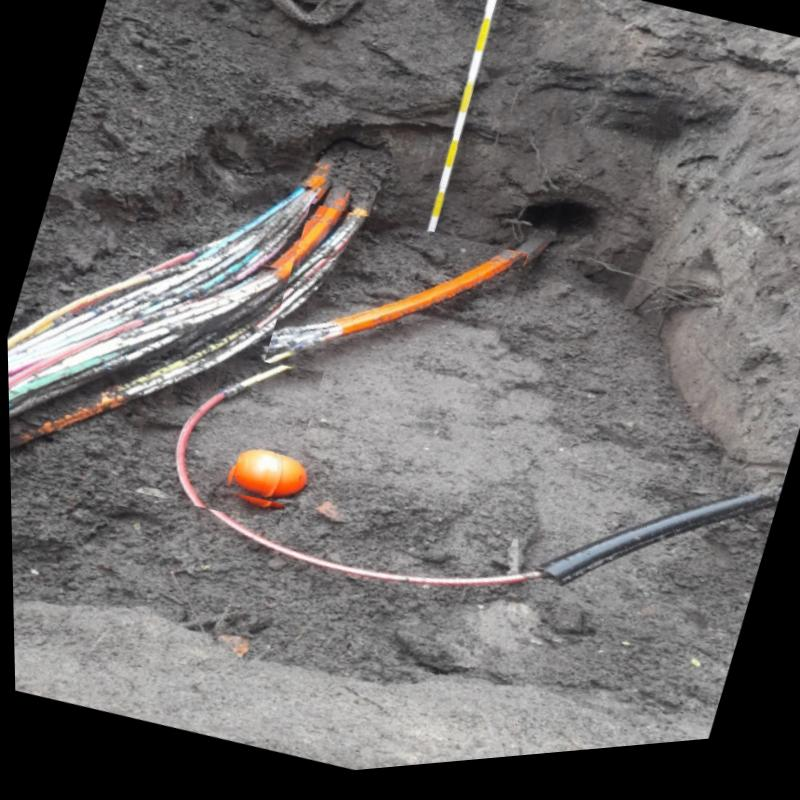Kugelmarker: (232, 458, 311, 506)
Orang-Speednetrohrchen: (6, 171, 370, 453), (267, 259, 524, 368)
